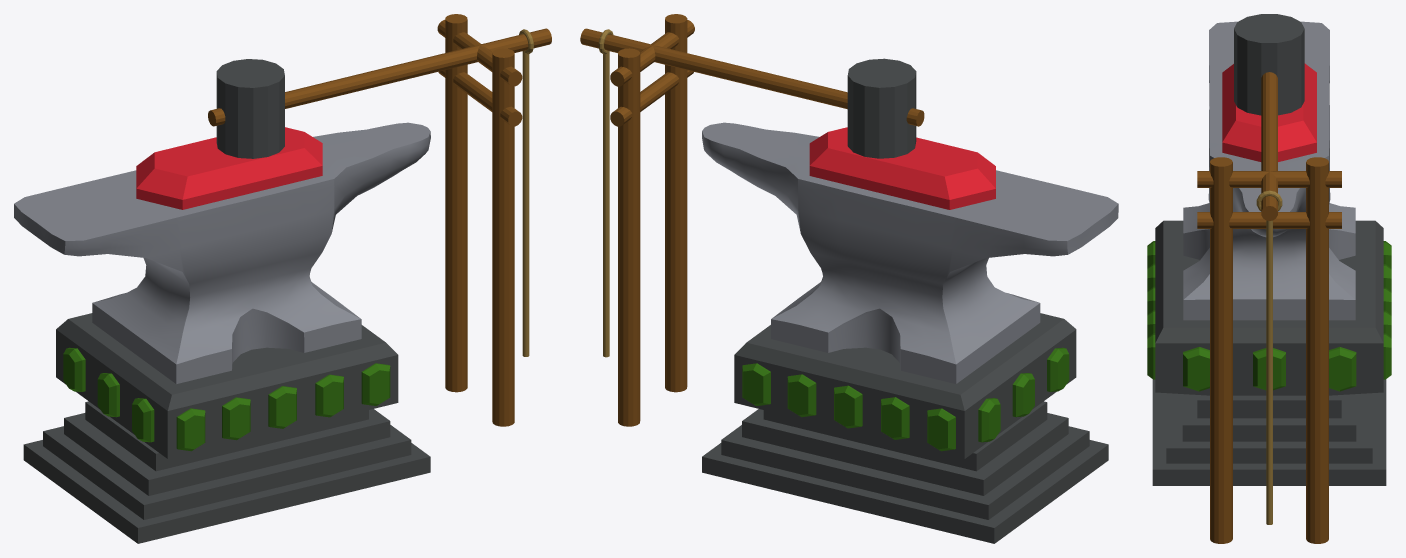
File: Statue.fbx
The picture shows the model from 3 angles, left to right: view 1: azimuth 30°, elevation 25°; view 2: azimuth 150°, elevation 25°; view 3: azimuth 270°, elevation 25°; orthographic projection. The views are drawn at different scales.
Parts seen in each view (by area): view 1: Plane.001; view 2: Plane.001; view 3: Plane.001.
Boxes of the visible parts, x1=… form: Plane.001: x1=14, y1=14, x2=551, y2=543; Plane.001: x1=580, y1=14, x2=1118, y2=543; Plane.001: x1=1147, y1=14, x2=1391, y2=543.
Bounding box in the file's own units: 786 × 568 × 318.
